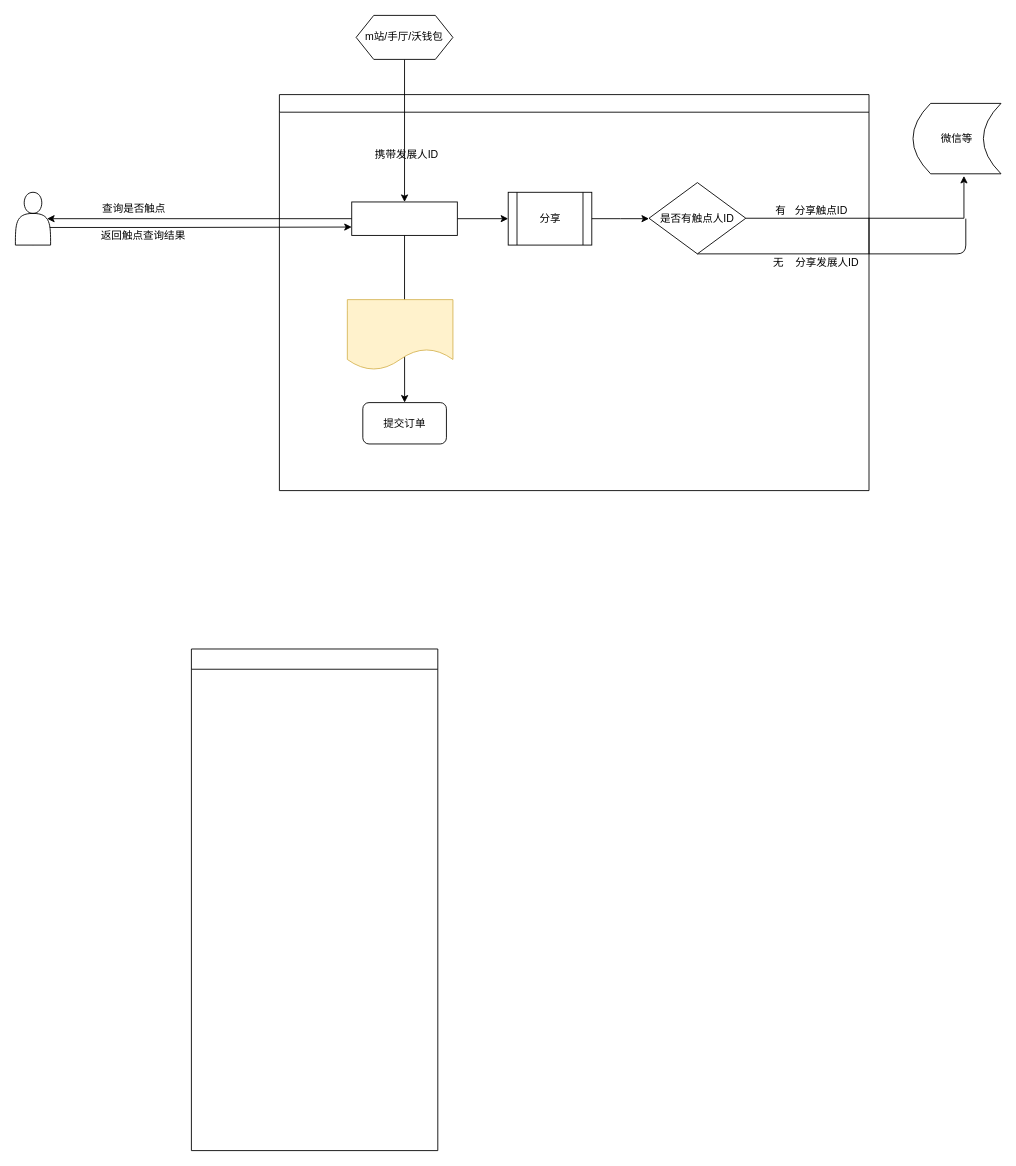
Image size: 1016x1166. Some labels were removed from this diagram. The shapes that lost their labels are listed below. From the top down, each one's centre as x and y in pixels, then its label:
point (404, 218): 触点商城首页
point (399, 334): 提交订单入参新增 携带发展人id
point (314, 899): Thread 2
